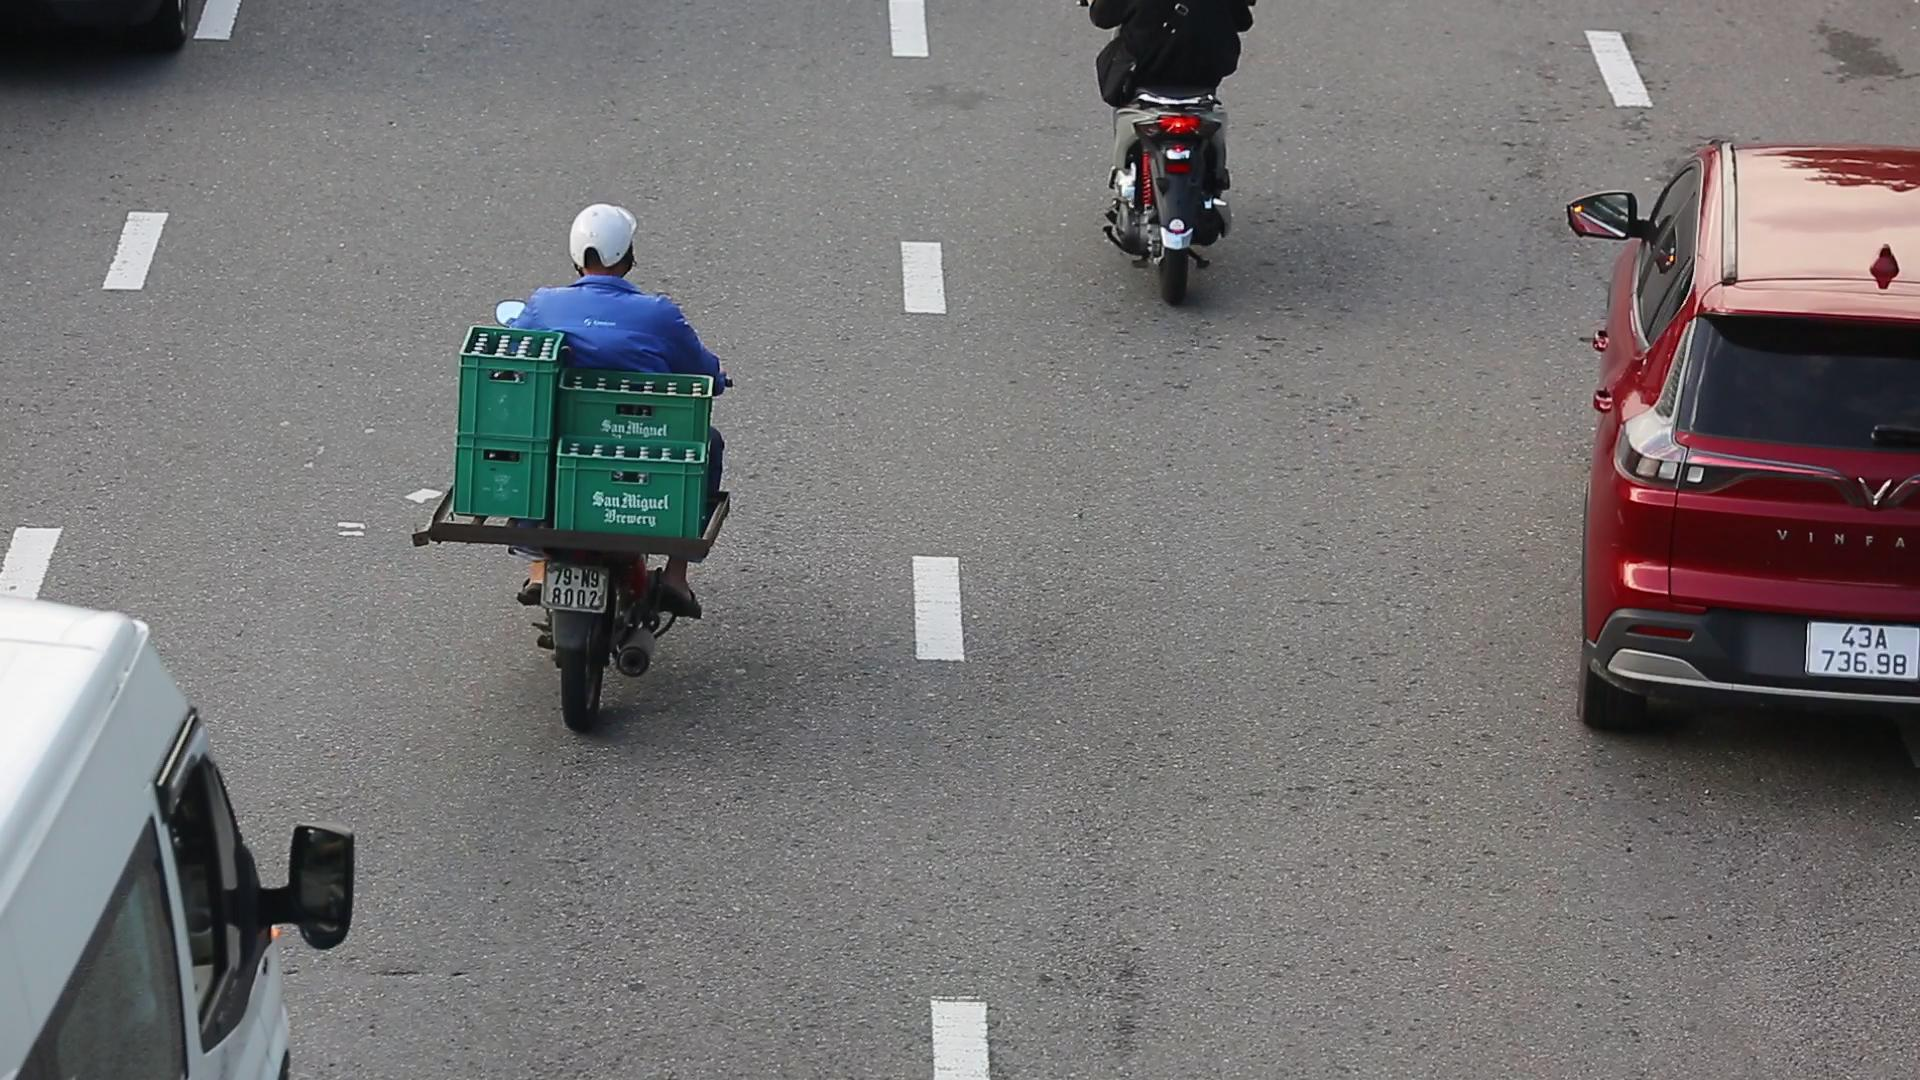motobike: (407, 190, 735, 731)
